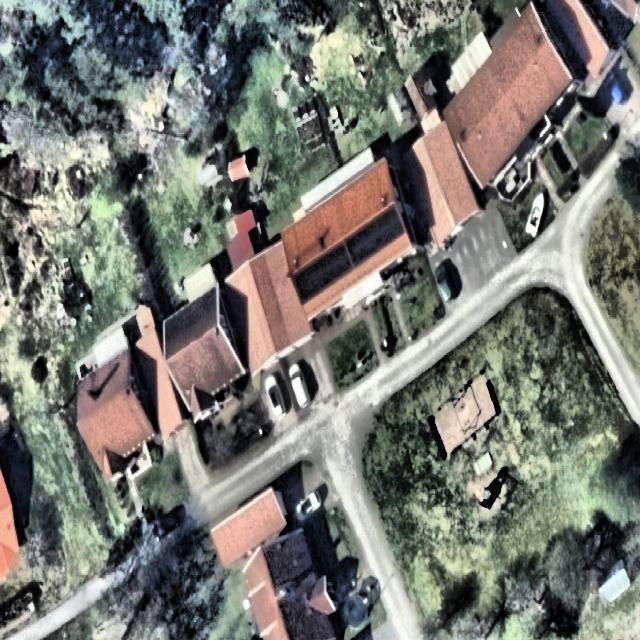roof_pv: (289, 244, 354, 310), (346, 202, 406, 269)
